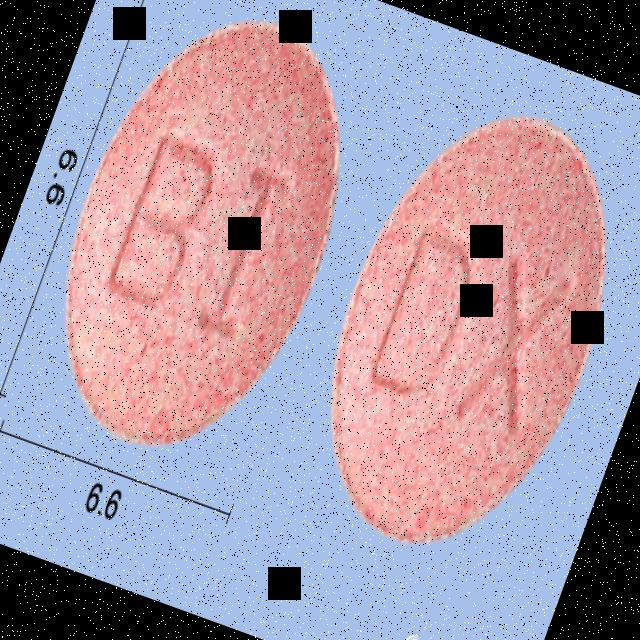Doxic: (13, 0, 392, 483), (278, 80, 640, 584)
